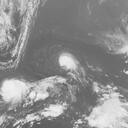cyclone: (58, 52, 79, 71)
